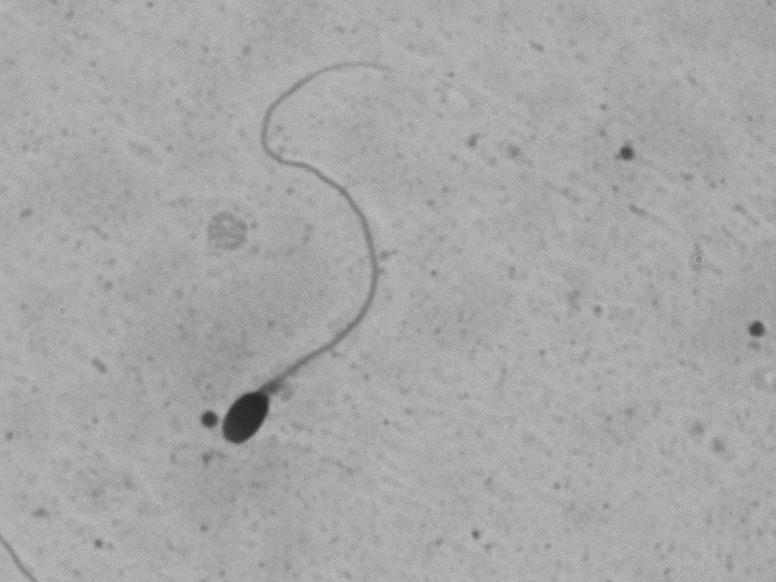Normal: (215, 43, 397, 461)
